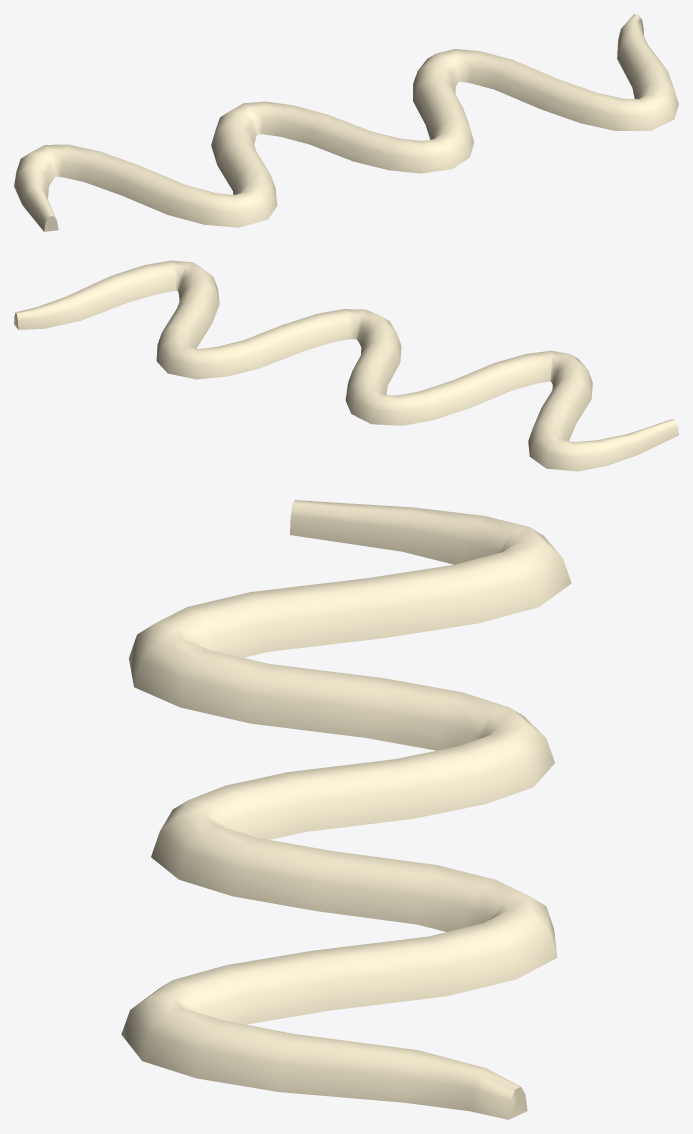
File: Food_Mayo_Ribbon.fbx
The picture shows the model from 3 angles, top to bottom: view 1: azimuth 30°, elevation 25°; view 2: azimuth 150°, elevation 25°; view 3: azimuth 270°, elevation 25°; orthographic projection. The views are drawn at different scales.
Parts seen in each view (by area): view 1: Sauce; view 2: Sauce; view 3: Sauce.
Boxes of the visible parts, x1=… form: Sauce: x1=14, y1=14, x2=678, y2=231; Sauce: x1=14, y1=260, x2=678, y2=471; Sauce: x1=121, y1=500, x2=571, y2=1119.
Bounding box in the file's own units: 203 × 6.94 × 64.81.
